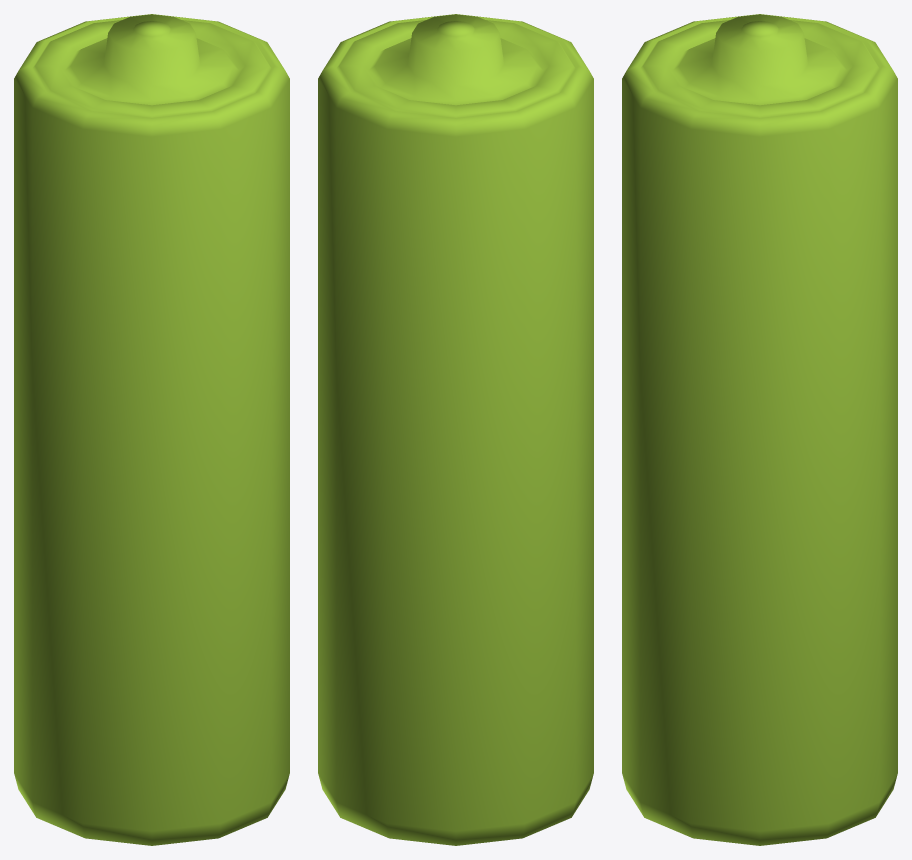
Rendered from Battery_Model_5.fbx.
The picture shows the model from 3 angles, left to right: view 1: azimuth 30°, elevation 25°; view 2: azimuth 150°, elevation 25°; view 3: azimuth 270°, elevation 25°; orthographic projection.
Parts seen in each view (by area): view 1: Bat5; view 2: Bat5; view 3: Bat5.
Part boxes in pixels (x1,y1,x2,y2): Bat5: (14, 14, 289, 845); Bat5: (318, 14, 593, 845); Bat5: (622, 14, 897, 845).
Size of the model in its own units: 66.96 by 205 by 66.96.
